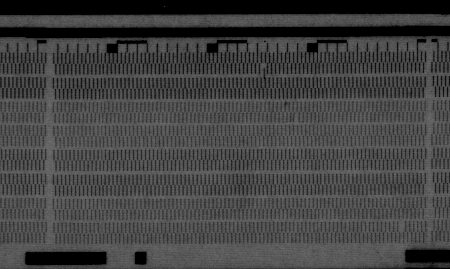Broken hole: (396, 221, 407, 234)
Oblique printing: (258, 63, 270, 79), (290, 111, 301, 124)
